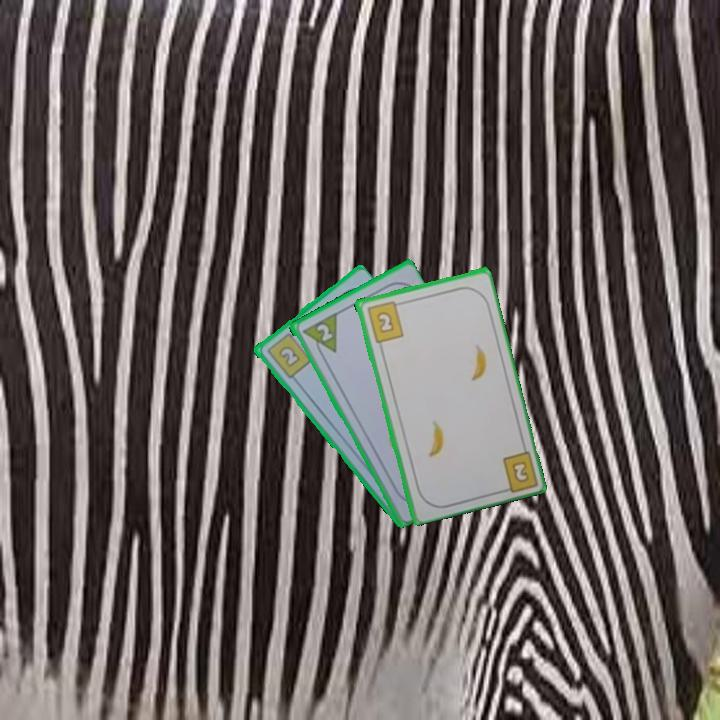2b: (262, 327, 314, 381), (363, 297, 406, 345), (496, 446, 538, 494)
2p: (312, 320, 335, 344)
